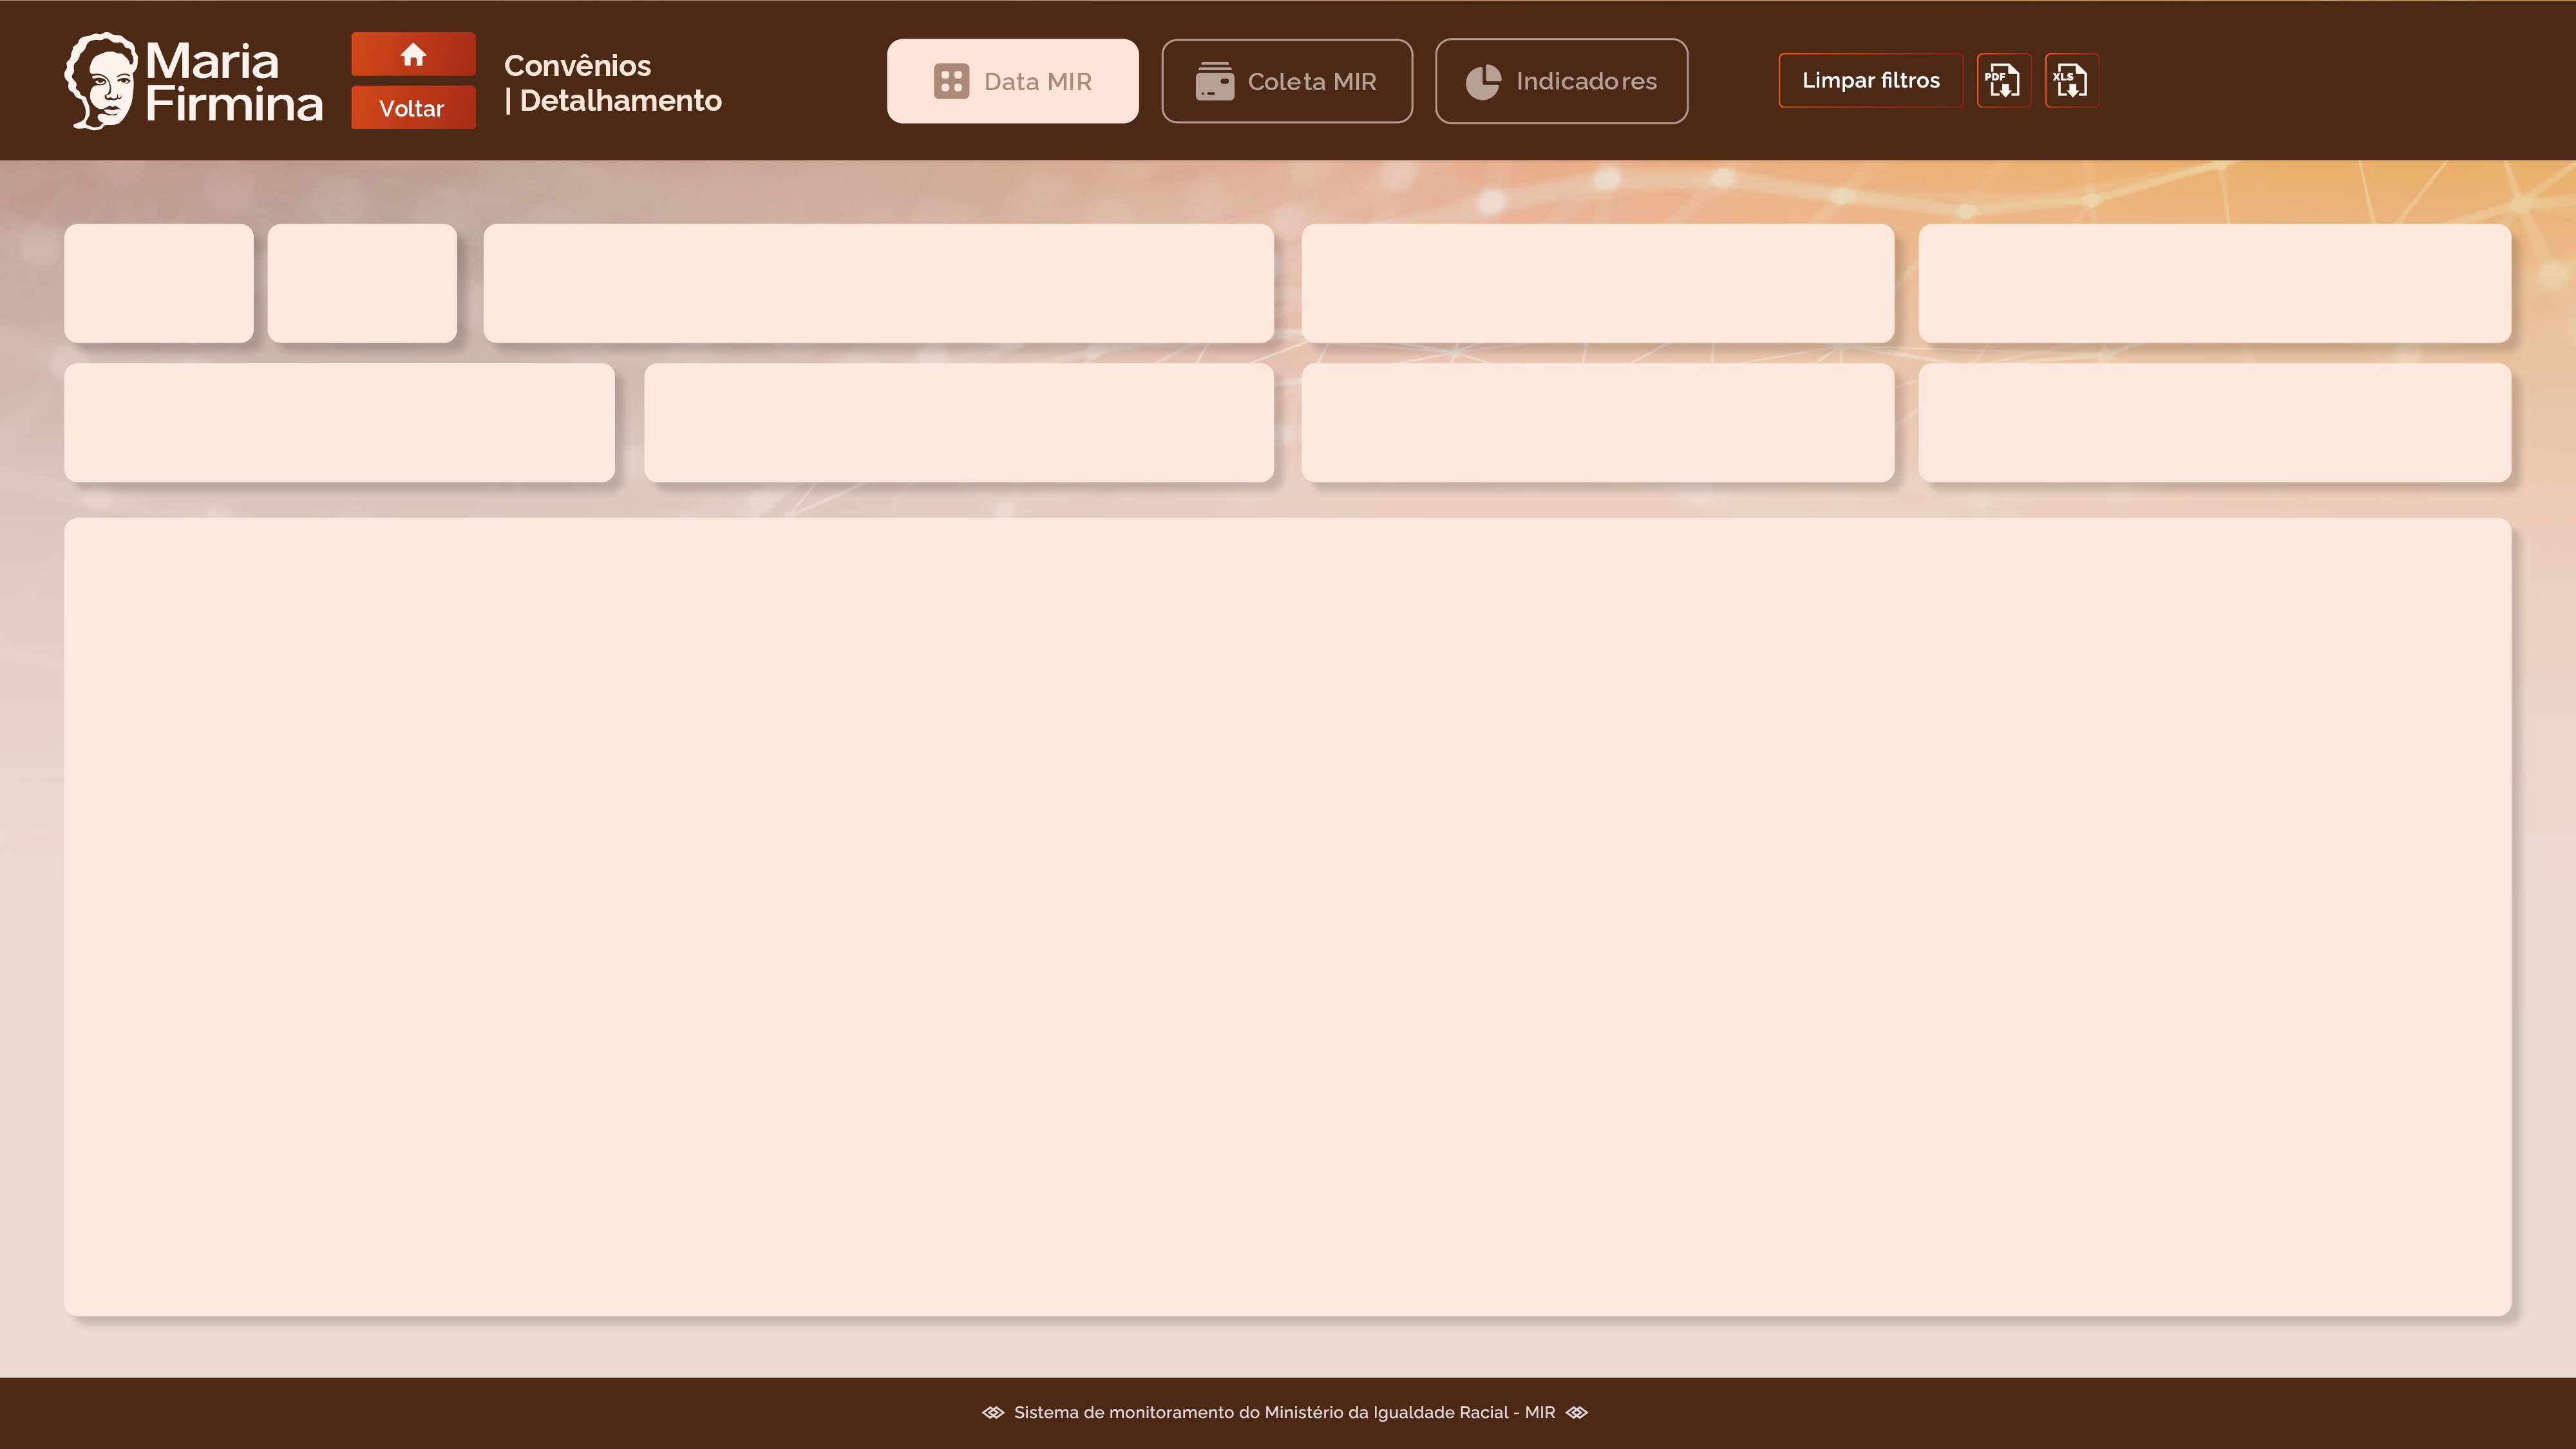

The dashboard page shown, as its layout file describes it:
{"tool":"powerbi","page":{"name":"Convênios Detalhamento","canvas":[1920,1080],"ordinal":17},"visuals":[{"type":"tableEx","fields":{"Values":["resumo_convenios.data_assinatura.Variation.Hierarquia de datas.Ano","resumo_convenios.nr_convenio","resumo_convenios.situacao_atual","resumo_convenios.modalidade_instrumento","resumo_convenios.parlamentares","resumo_convenios.uf_execucao","resumo_convenios.categoria_convenente","resumo_convenios.nome_convenente","resumo_convenios.objeto","resumo_convenios.data_assinatura","resumo_convenios.inicio_vigencia","resumo_convenios.fim_vigencia"]},"box":[54.3,392.9,1817.1,585.7],"z":0},{"type":"slicer","fields":{"Values":["resumo_convenios.nr_convenio"]},"box":[973.3,168.9,441.1,85.6],"z":1000},{"type":"slicer","fields":{"Values":["resumo_convenios.situacao_atual"]},"box":[973.3,272.2,441.1,85.6],"z":2000},{"type":"slicer","fields":{"Values":["resumo_convenios.uf_execucao"]},"box":[1430,272.2,442.2,85.6],"z":3000},{"type":"slicer","fields":{"Values":["resumo_convenios.nome_convenente"]},"box":[54.4,272.2,403.3,85.6],"z":4000},{"type":"slicer","fields":{"Values":["resumo_convenios.parlamentares"]},"box":[1430,168.9,441.1,85.6],"z":5000},{"type":"slicer","fields":{"Values":["resumo_convenios.municipio_execucao"]},"box":[483.3,273.3,464.4,84.4],"z":6000},{"type":"slicer","fields":{"Values":["resumo_convenios.categoria_convenente"]},"box":[363.3,168.9,583.3,85.6],"z":7000},{"type":"slicer","fields":{"Values":["resumo_convenios.data_assinatura.Variation.Hierarquia de datas.Ano"]},"box":[48.9,168.9,140,85.6],"z":9000},{"type":"slicer","fields":{"Values":["resumo_convenios.data_assinatura.Variation.Hierarquia de datas.Ano"]},"box":[203.3,168.9,135.6,85.6],"z":10000},{"type":"textbox","box":[54.3,991.4,773.6,27.4],"z":11000},{"type":"actionButton","box":[261.5,62,94.3,32.9],"z":12000},{"type":"actionButton","box":[261.7,22.8,92.2,33.3],"z":13000},{"type":"textbox","box":[1642.6,29.3,167.6,71.8],"z":14000},{"type":"actionButton","box":[1326.7,40.7,137.8,38.9],"z":15000},{"type":"image","box":[1820,42,53.3,37.8],"z":16000},{"type":"actionButton","box":[661.3,28.7,187.3,62.7],"z":17000},{"type":"actionButton","box":[866,28.7,187.3,62.7],"z":18000},{"type":"actionButton","box":[1069.3,30,187.3,62.7],"z":19000},{"type":"pageNavigator","box":[54,133,570,23],"z":20000}]}

Visuals, with their boxes in screenshot pixels (x1, y1, x2, y2), scaled from the page's 1920x1080 canvas onto the 2576x1449 screenshot:
tableEx - resumo_convenios.data_assinatura.Variation.Hierarquia de datas.Ano x resumo_convenios.nr_convenio: 73:527:2511:1313
slicer - resumo_convenios.nr_convenio: 1306:227:1898:341
slicer - resumo_convenios.situacao_atual: 1306:365:1898:480
slicer - resumo_convenios.uf_execucao: 1918:365:2512:480
slicer - resumo_convenios.nome_convenente: 73:365:614:480
slicer - resumo_convenios.parlamentares: 1918:227:2510:341
slicer - resumo_convenios.municipio_execucao: 649:366:1271:480
slicer - resumo_convenios.categoria_convenente: 488:227:1270:341
slicer - resumo_convenios.data_assinatura.Variation.Hierarquia de datas.Ano: 66:227:254:341
slicer - resumo_convenios.data_assinatura.Variation.Hierarquia de datas.Ano: 273:227:455:341
textbox: 73:1330:1111:1367
actionButton: 351:83:477:128
actionButton: 351:31:475:75
textbox: 2204:39:2429:136
actionButton: 1780:55:1965:107
image: 2442:57:2514:107
actionButton: 887:39:1139:122
actionButton: 1162:39:1413:122
actionButton: 1435:41:1686:124
pageNavigator: 73:178:837:209
